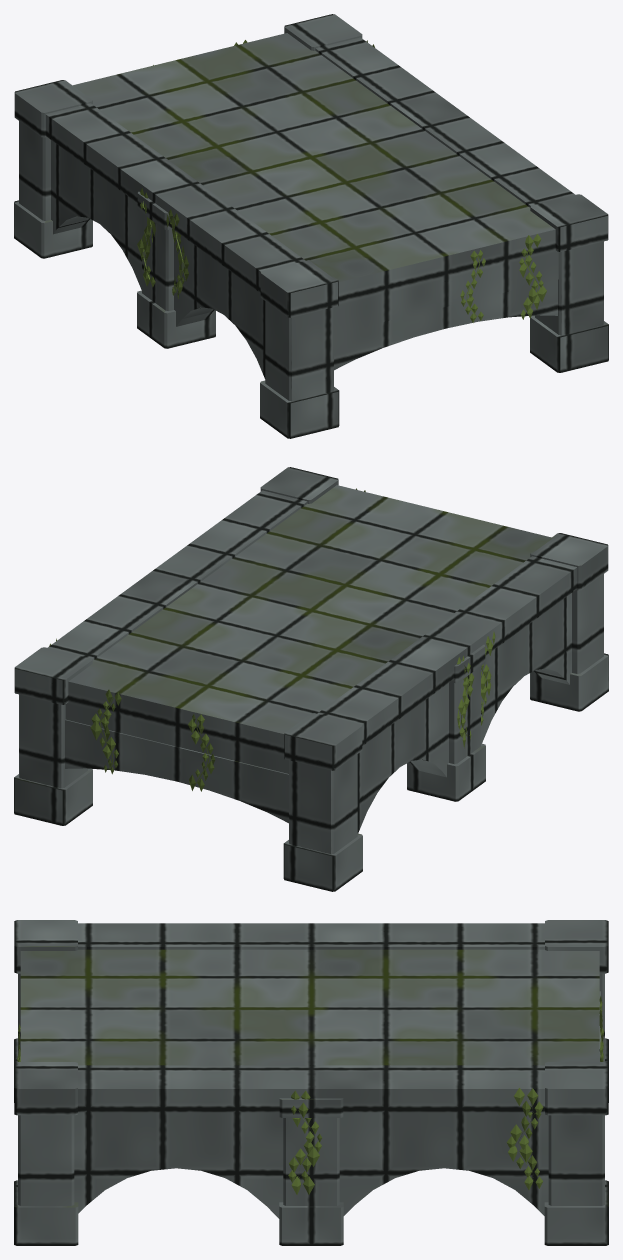
The model's file is Path.fbx.
3 renders of one model, top to bottom at view 1: azimuth 30°, elevation 25°; view 2: azimuth 150°, elevation 25°; view 3: azimuth 270°, elevation 25°, orthographic. The views are drawn at different scales.
Visible parts, largest first — view 1: Path.003; view 2: Path.003; view 3: Path.003.
Boxes of the visible parts, left/top/right/bottom form: Path.003: left=14, top=14, right=608, bottom=438; Path.003: left=14, top=467, right=608, bottom=891; Path.003: left=14, top=920, right=608, bottom=1245.
Bounding box in the file's own units: 6.29 × 2.7 × 9.25.
Materials: 4 (3 with a texture image).
